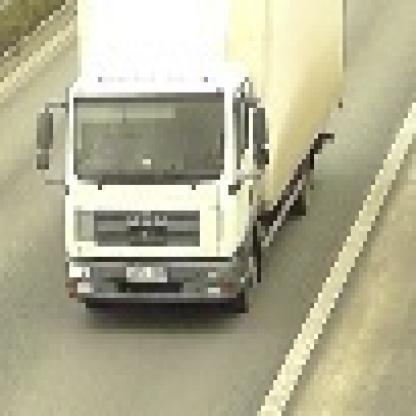truck: (33, 1, 343, 314)
